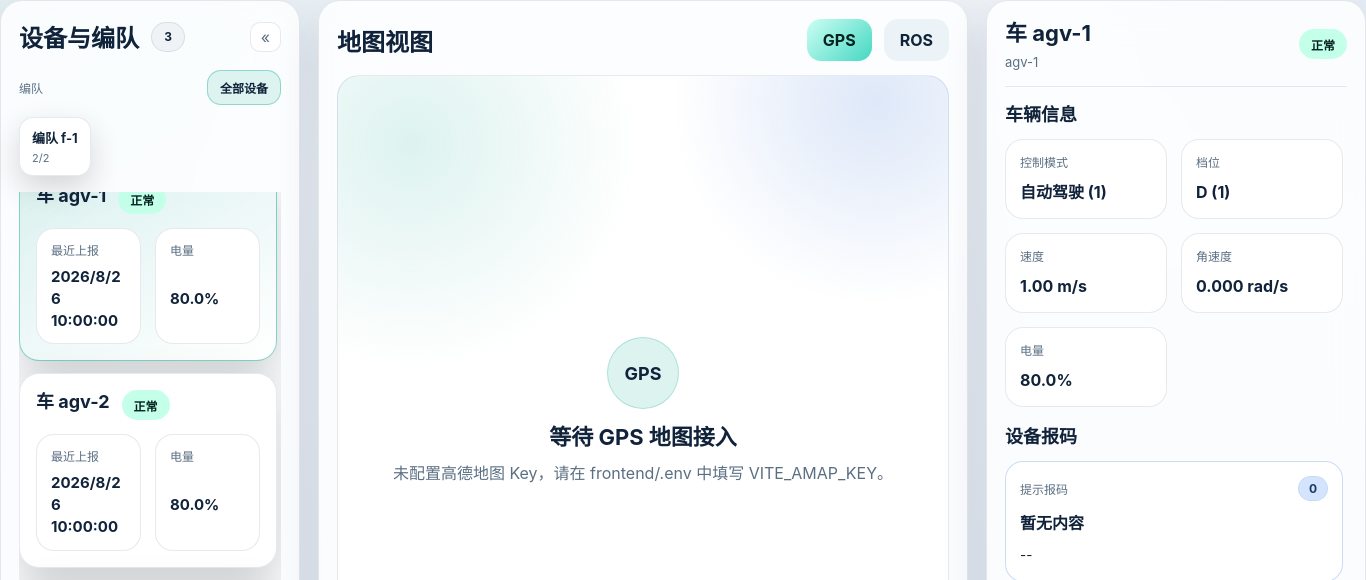
Test: DashboardView selection › selects the clicked device
(page scrolled)
Click the button with class "device-item" that starts with "车 agv-2": (148, 470) [19,373,277,568]
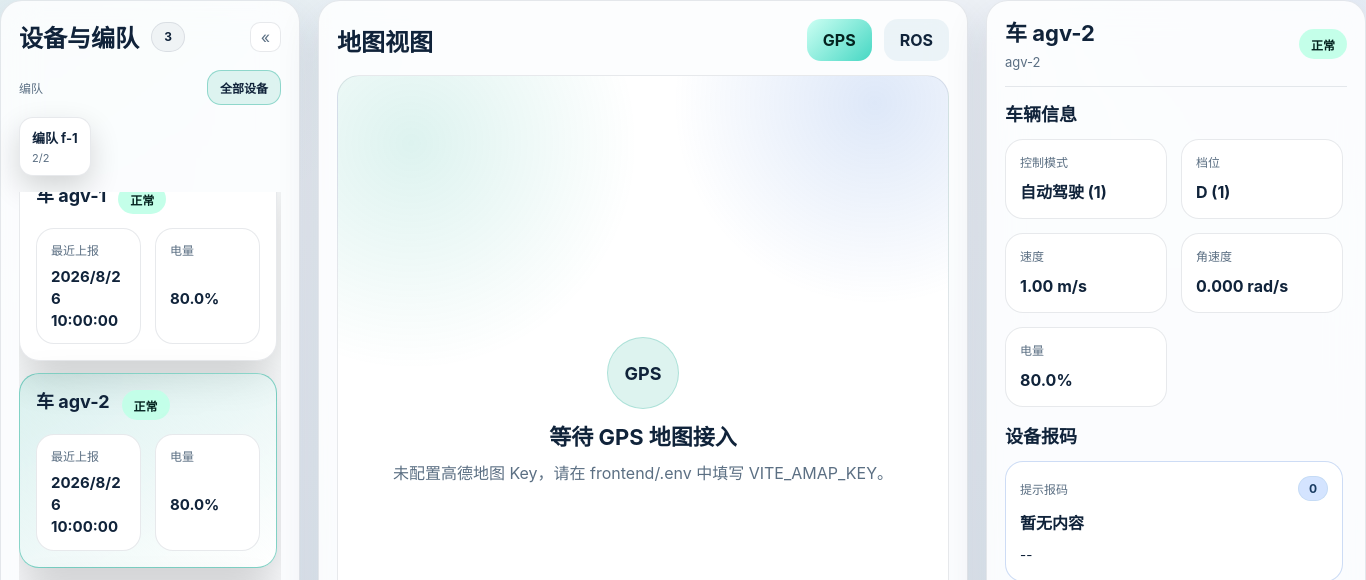
Expected: the text "agv-2" is shown, [1005,54,1040,70]
